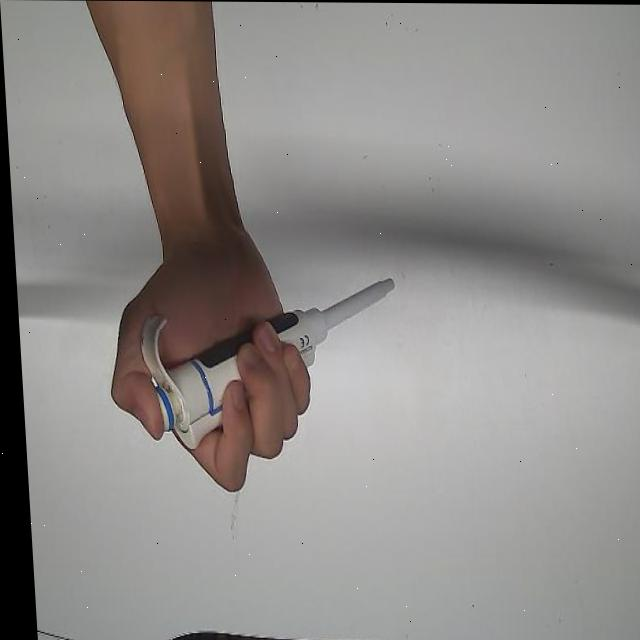Single Channel Pipettor: (130, 277, 404, 452)
